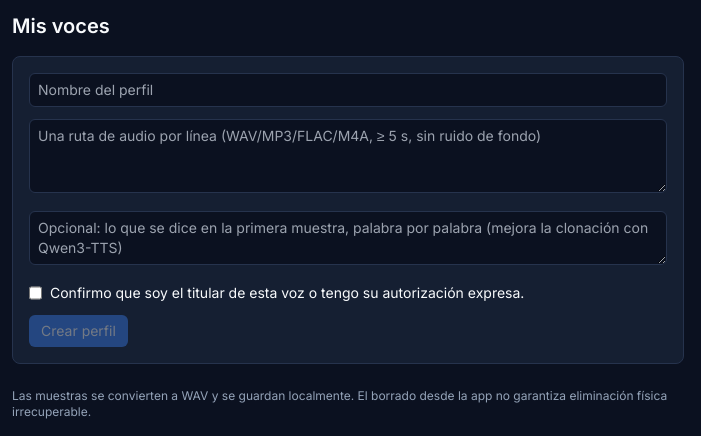
Test: Voices: exige consentimiento antes de crear el perfil
Type "Yo" into the field labelled "Nombre del perfil" at (348, 90), box x1=29 y1=73 x2=667 y2=107
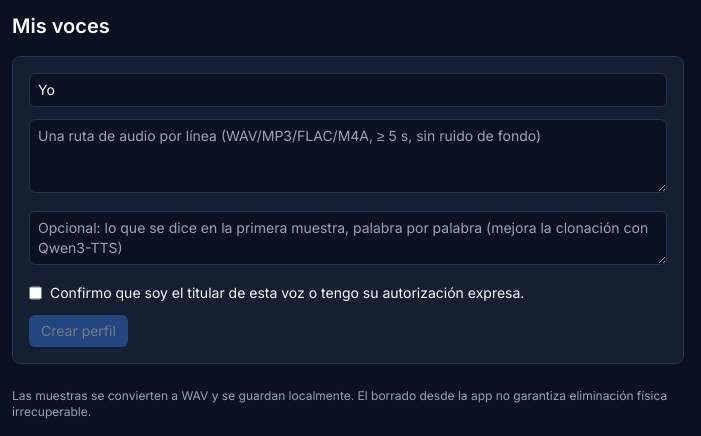
Replace the text in the text box named "Muestras" with "C:\\voz.wav" at (348, 156), box x1=29 y1=119 x2=667 y2=193
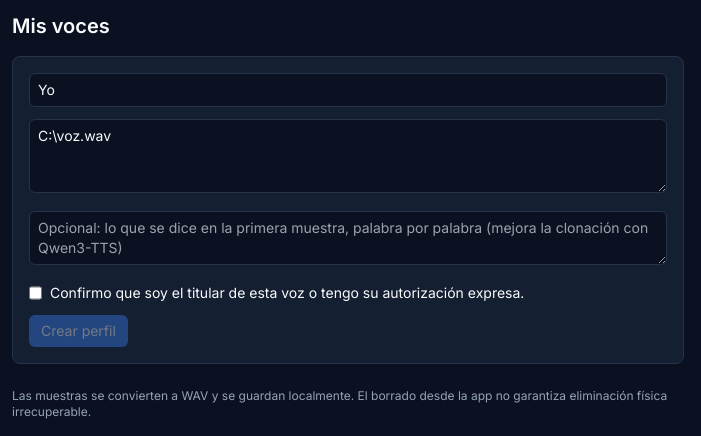
Expected: the button "Crear perfil" is disabled, x1=29 y1=315 x2=128 y2=347
Click the checkbox at (36, 293), box x1=29 y1=283 x2=42 y2=303
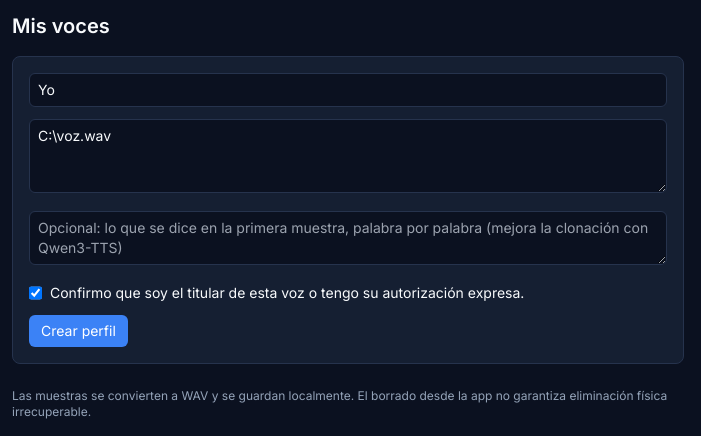
Now the button "Crear perfil" is enabled, box x1=29 y1=315 x2=128 y2=347
